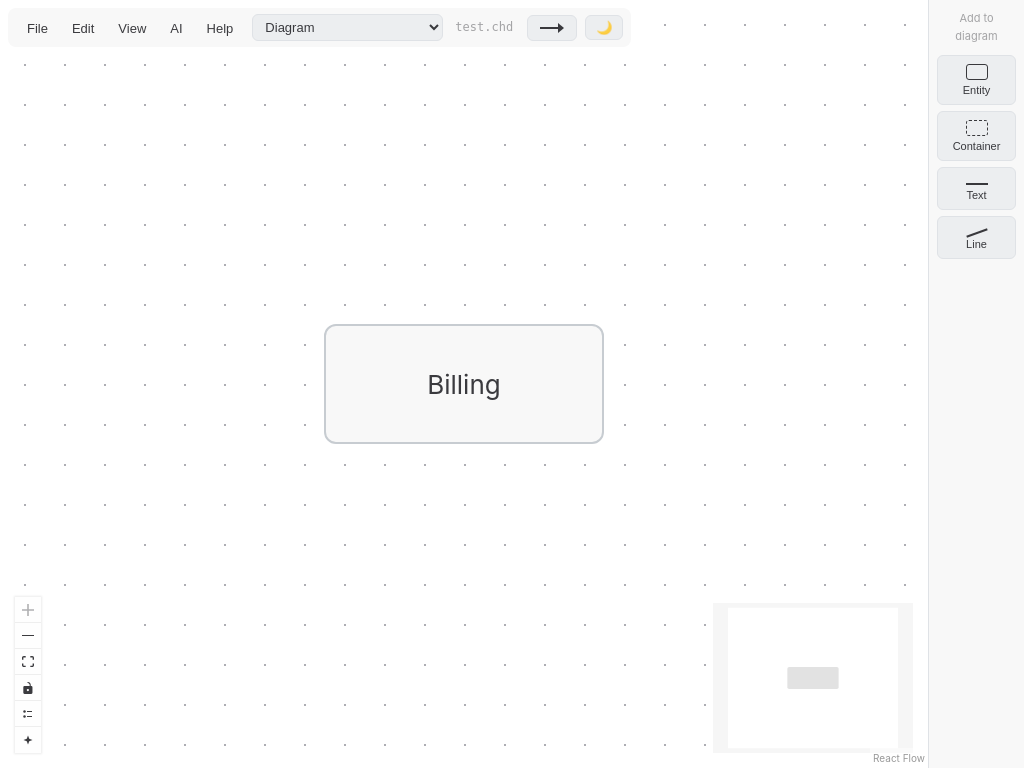
Test: closing the window › does not count opening the legend and the highlights panel, or toggling a highlight, as a change
The width and height of the screenshot is (1024, 768).
Expected: the text "Billing" is shown, top-left (427, 363), bottom-right (501, 405)
Step 1. Click the button named "Show legend" → (28, 714), box top-left (15, 701), bottom-right (41, 727)
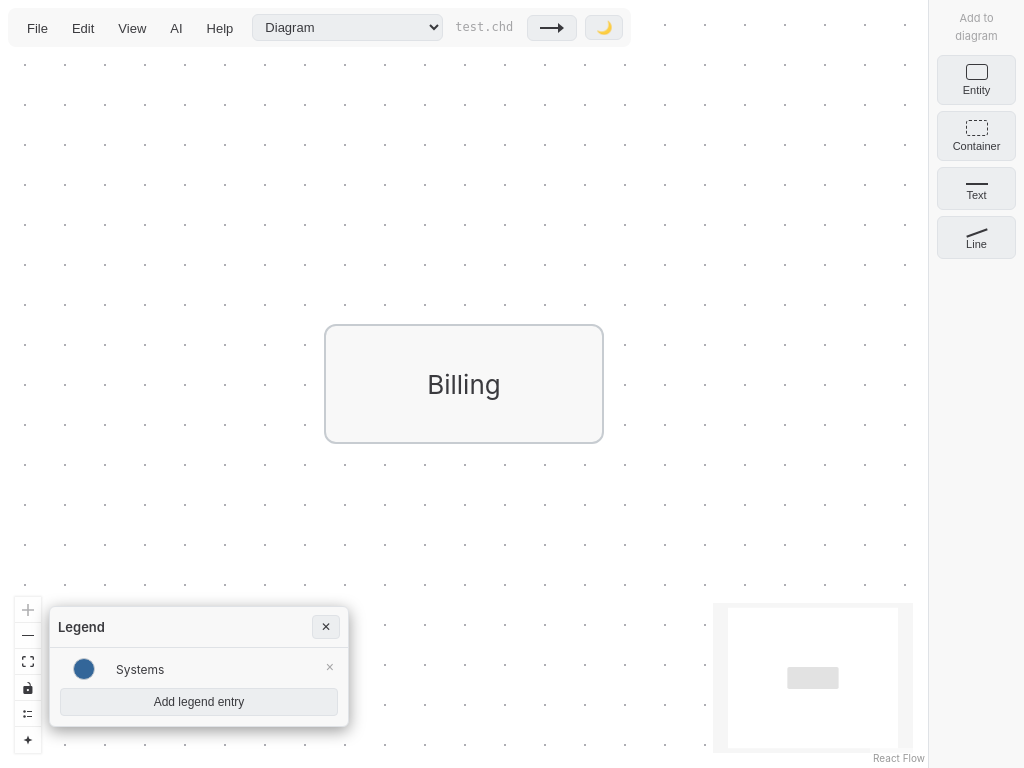
Step 2. Click the button named "Show highlights" → (28, 740), box top-left (15, 727), bottom-right (41, 753)
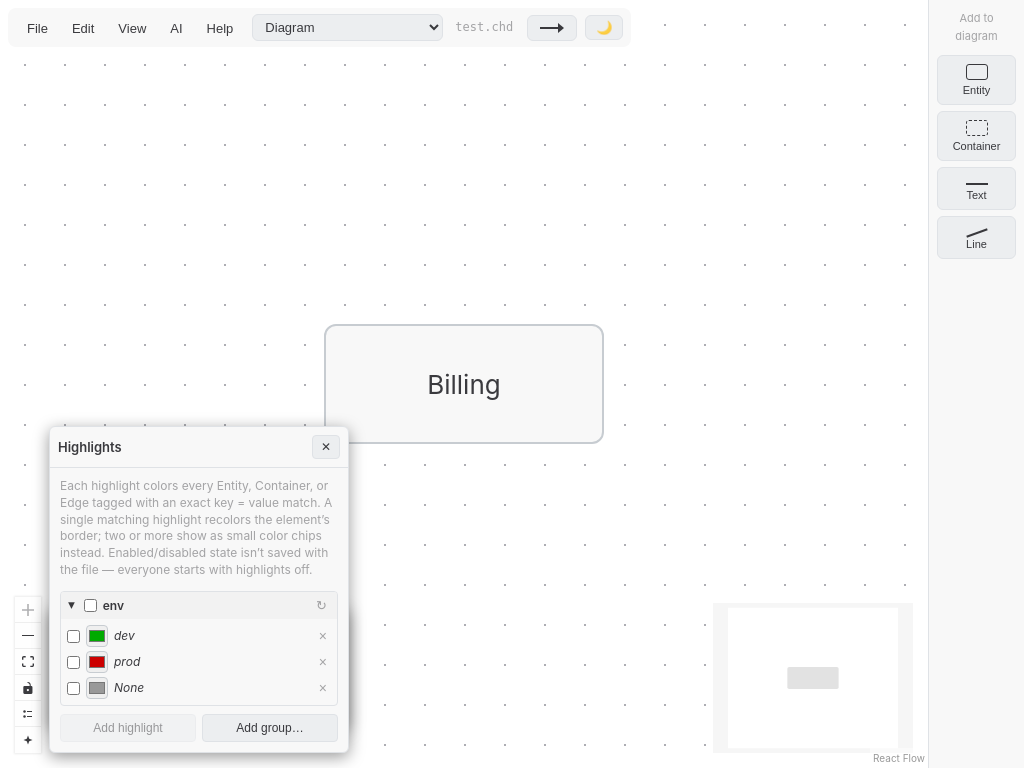
Step 3. Click the checkbox named "Disabled" next to "dev" → (74, 636), box top-left (67, 630), bottom-right (80, 642)
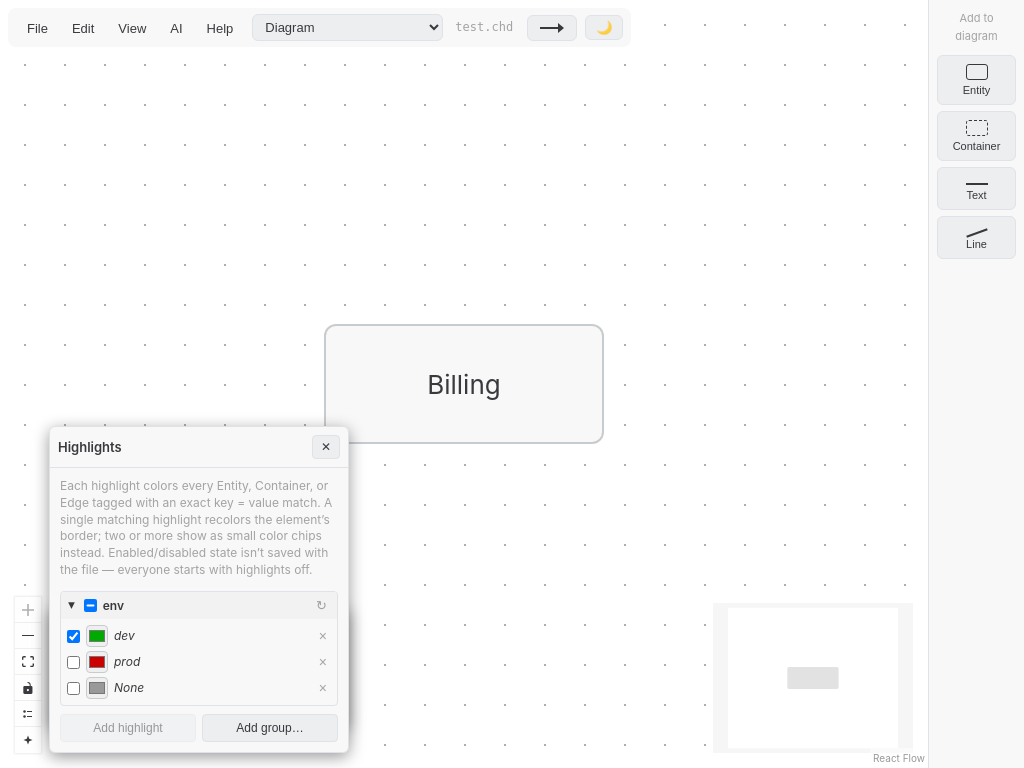
Expected: the checkbox named "Enabled" is shown, top-left (67, 630), bottom-right (80, 642)
